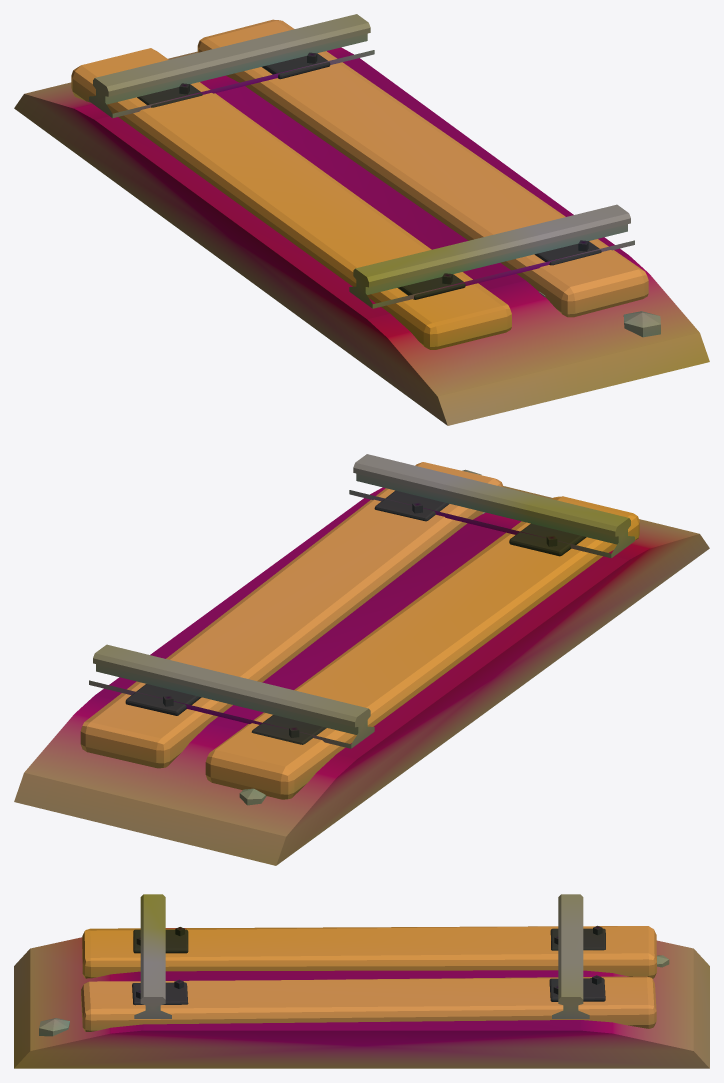
Rendered from Track_Straight_1_5m.glb.
3 views of the same model, one above another, from view 1: azimuth 30°, elevation 25°; view 2: azimuth 150°, elevation 25°; view 3: azimuth 270°, elevation 25° (orthographic). The views are drawn at different scales.
Visible parts, largest first — view 1: Track_Straight_1_5m; view 2: Track_Straight_1_5m; view 3: Track_Straight_1_5m.
Part boxes in pixels (<box>): Track_Straight_1_5m: <box>14,14,709,425</box>; Track_Straight_1_5m: <box>14,454,709,865</box>; Track_Straight_1_5m: <box>14,894,709,1068</box>.
Size of the model in its own units: 1.5 by 0.49 by 4.3.
